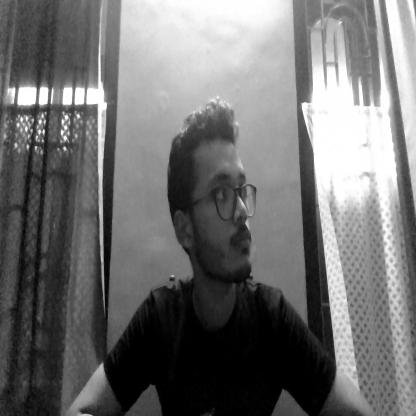Distracted: (168, 104, 264, 291)
